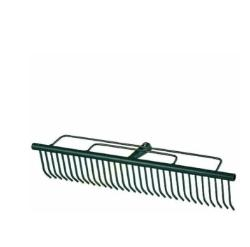RATEAU: (0, 22, 250, 247)
